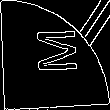M_W: (30, 31, 80, 79)
